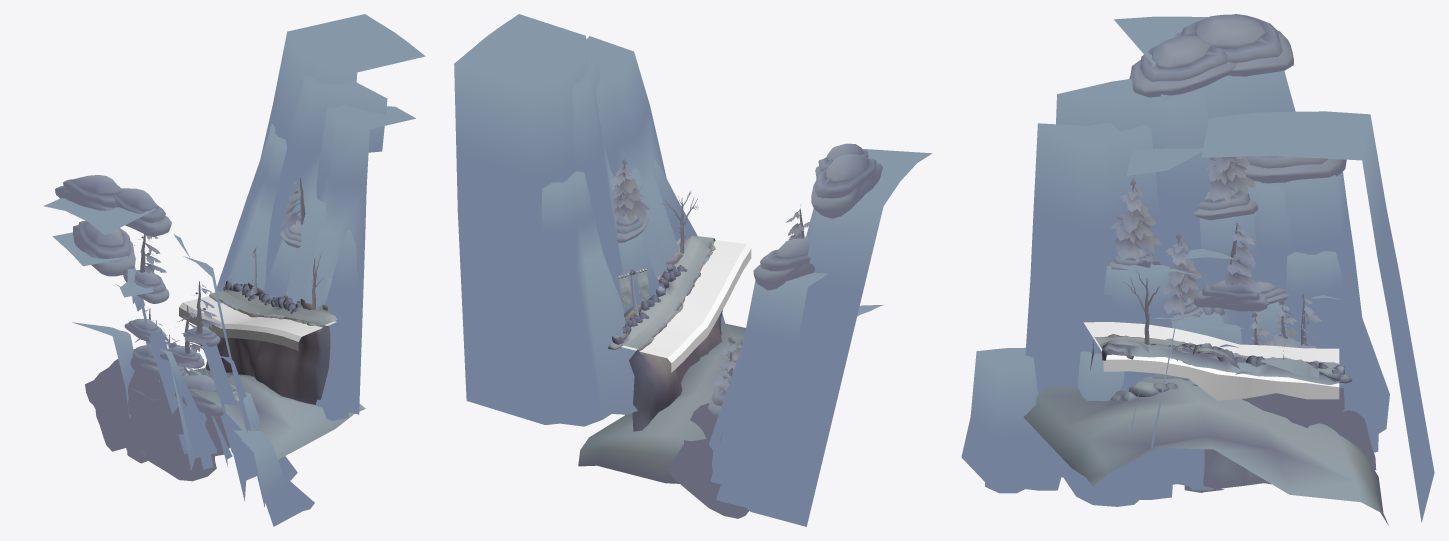
Rendered from Arctic_Narrows_Left_Curve_Left_15_B.glb.
3 views of the same model, side by side, from view 1: azimuth 30°, elevation 25°; view 2: azimuth 150°, elevation 25°; view 3: azimuth 270°, elevation 25° (orthographic). The views are drawn at different scales.
Parts seen in each view (by area): view 1: Arctic_Narrows_Left_Curve_Left_15_B, inv_fill; view 2: Arctic_Narrows_Left_Curve_Left_15_B, inv_fill; view 3: Arctic_Narrows_Left_Curve_Left_15_B, inv_fill.
Boxes of the visible parts, x1,y1,x2,y2 form: Arctic_Narrows_Left_Curve_Left_15_B: (43, 14, 425, 526); inv_fill: (179, 296, 336, 350); Arctic_Narrows_Left_Curve_Left_15_B: (454, 14, 932, 526); inv_fill: (621, 240, 751, 372); Arctic_Narrows_Left_Curve_Left_15_B: (961, 14, 1434, 525); inv_fill: (1083, 322, 1339, 400).
Size of what is drawn, in the model's own units: 24.34 by 23.75 by 20.82.
